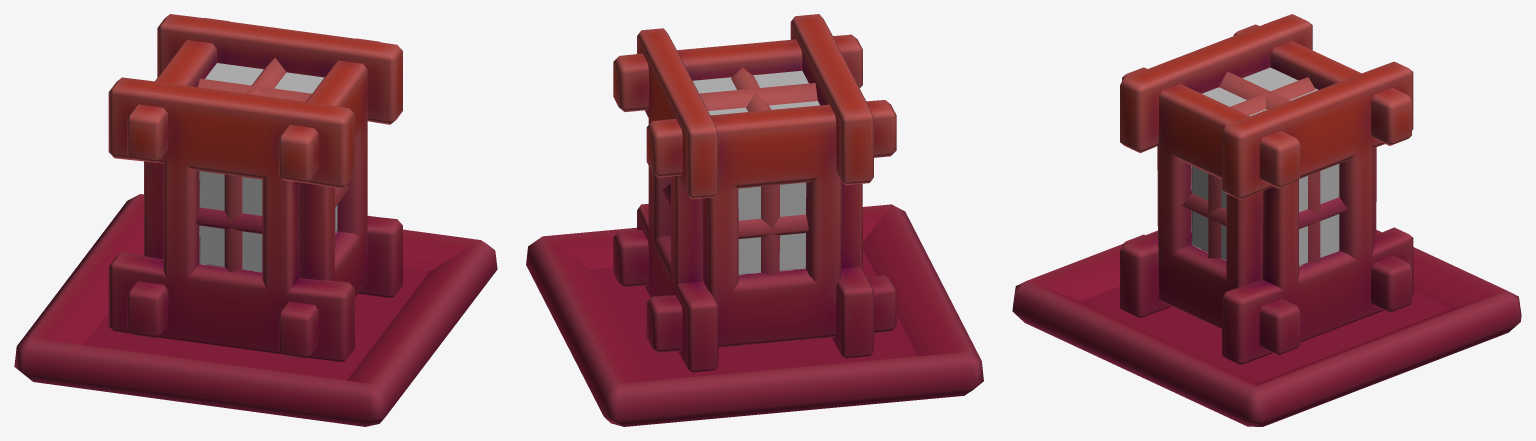
File: LANTERN_06.fbx
3 views of the same model, side by side, from view 1: azimuth 30°, elevation 25°; view 2: azimuth 150°, elevation 25°; view 3: azimuth 270°, elevation 25° (orthographic). The views are drawn at different scales.
Parts seen in each view (by area): view 1: m_boxlantern_01, m_boxlantern_float_01; view 2: m_boxlantern_01, m_boxlantern_float_01; view 3: m_boxlantern_01, m_boxlantern_float_01.
Part boxes in pixels (bbox=[...]): m_boxlantern_01: bbox=[108, 14, 402, 361]; m_boxlantern_float_01: bbox=[14, 194, 497, 426]; m_boxlantern_01: bbox=[613, 14, 896, 372]; m_boxlantern_float_01: bbox=[526, 204, 983, 426]; m_boxlantern_01: bbox=[1120, 14, 1413, 364]; m_boxlantern_float_01: bbox=[1012, 230, 1521, 426].
Size of the model in its own units: 1.46 by 0.852 by 1.46.
1 material, 1 textured.
